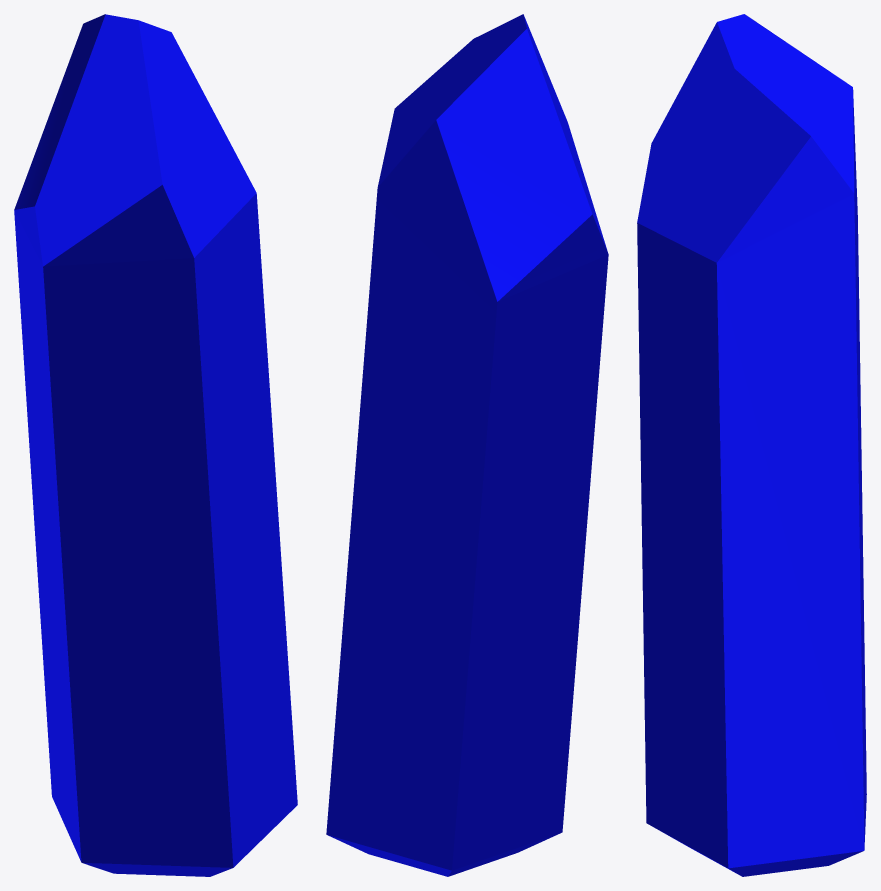
The model's file is hare.fbx.
3 renders of one model, left to right at view 1: azimuth 30°, elevation 25°; view 2: azimuth 150°, elevation 25°; view 3: azimuth 270°, elevation 25°, orthographic. The views are drawn at different scales.
Parts seen in each view (by area): view 1: Object; view 2: Object; view 3: Object.
Boxes of the visible parts, x1,y1,x2,y2 form: Object: (14, 14, 297, 876); Object: (326, 14, 608, 876); Object: (637, 14, 866, 876).
Size of the model in its own units: 3.81 by 12.18 by 3.16.
